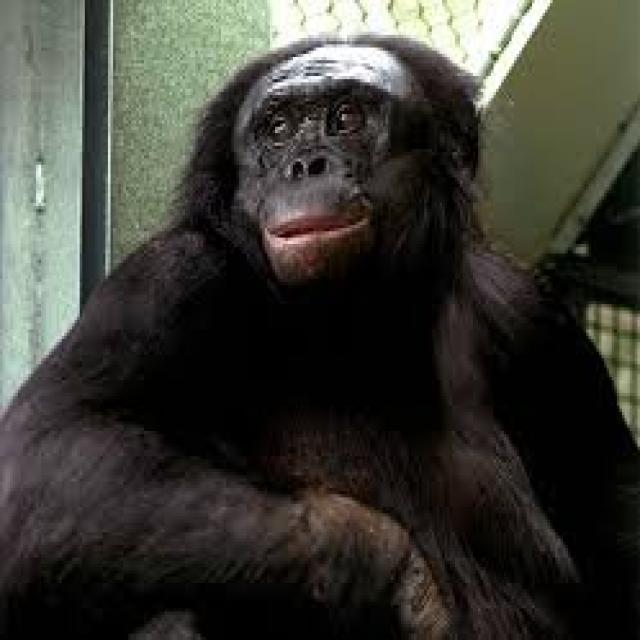chimpanzee: (0, 38, 637, 637)
